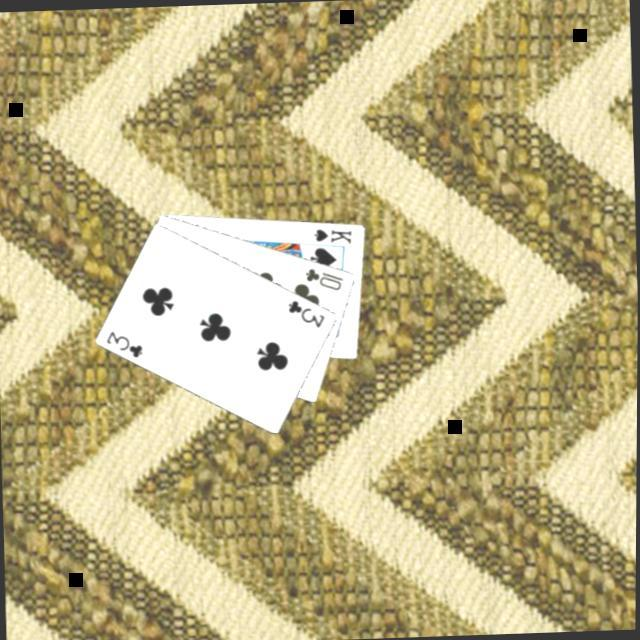10C: (301, 264, 346, 295)
3C: (284, 297, 327, 332), (102, 327, 145, 362)
KS: (309, 224, 354, 248)
